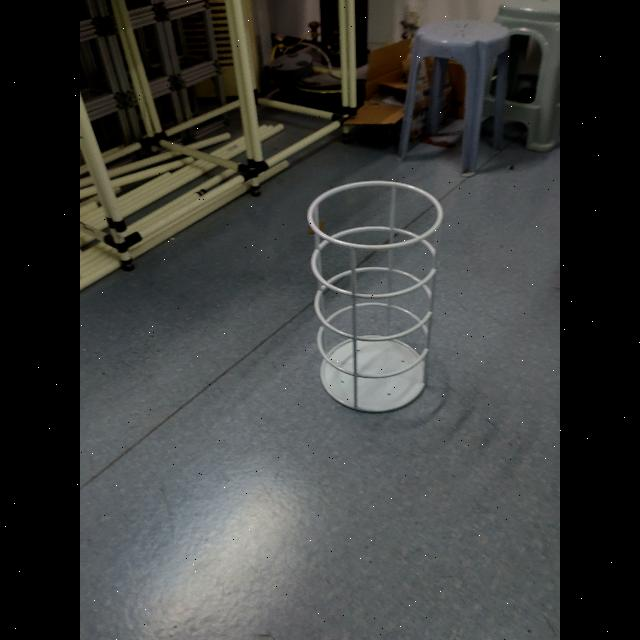S: (300, 177, 446, 415)
